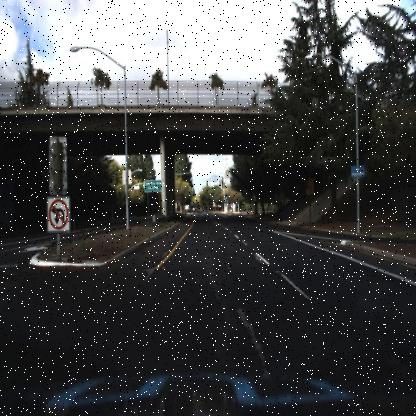trafficLight-Green: (225, 194, 228, 200), (206, 183, 208, 188)
